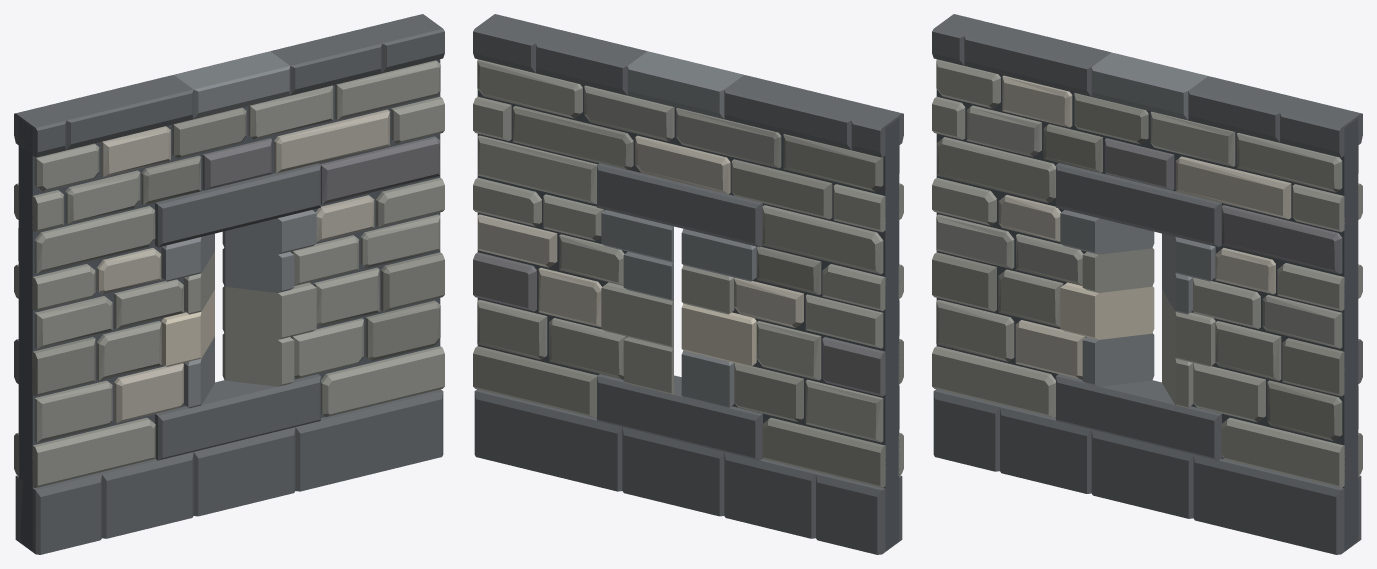
Rendered from SM_LPD_Struct_WallSlit_01.fbx.
The picture shows the model from 3 angles, left to right: view 1: azimuth 30°, elevation 25°; view 2: azimuth 150°, elevation 25°; view 3: azimuth 330°, elevation 25°; orthographic projection.
Visible parts, largest first — view 1: SM_LPD_Struct_WallSlit_01; view 2: SM_LPD_Struct_WallSlit_01; view 3: SM_LPD_Struct_WallSlit_01.
Part boxes in pixels (x1,y1,x2,y2): SM_LPD_Struct_WallSlit_01: [14, 14, 444, 554]; SM_LPD_Struct_WallSlit_01: [473, 14, 903, 554]; SM_LPD_Struct_WallSlit_01: [932, 14, 1362, 554].
Bounding box in the file's own units: 4 × 4 × 0.4.
